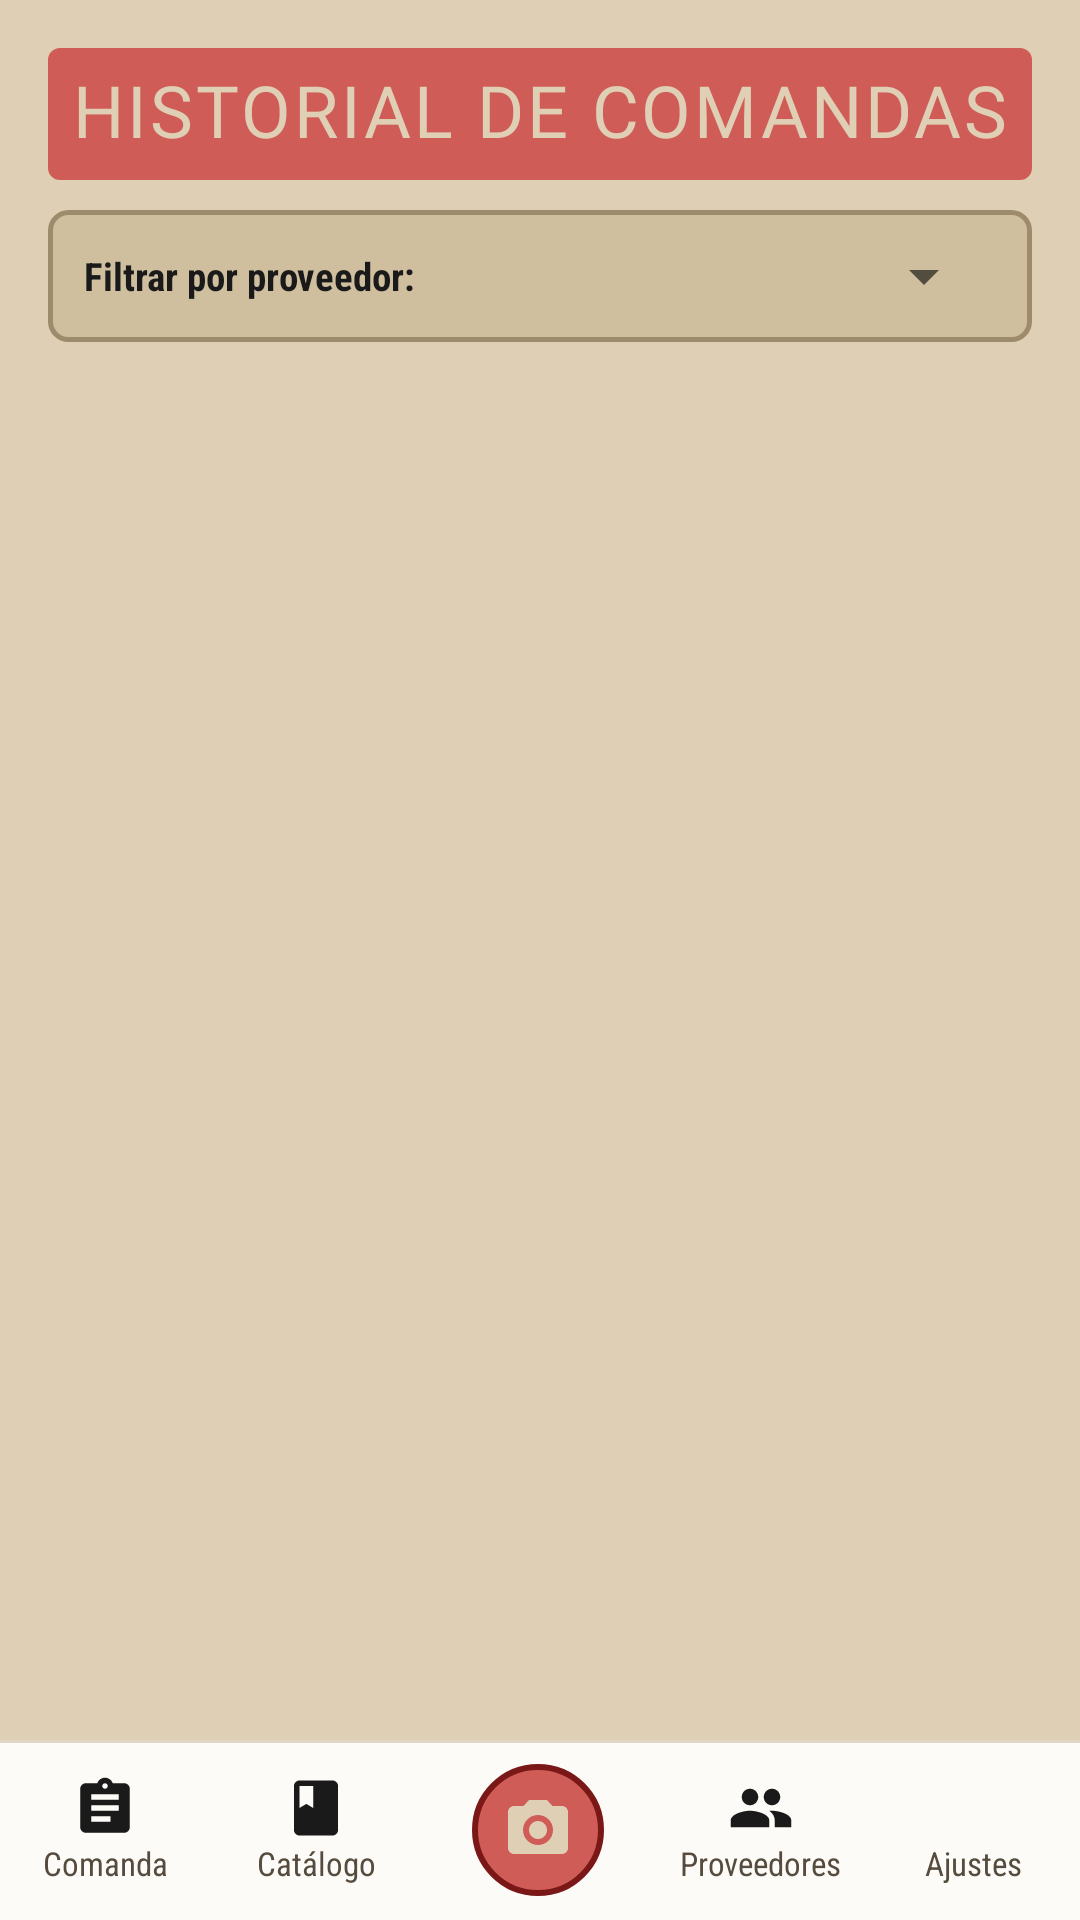

Icons on this 1080w x 1920h Android screen, each with its box as (x1, y1, x2, y2):
camera: (508, 1800, 568, 1854)
